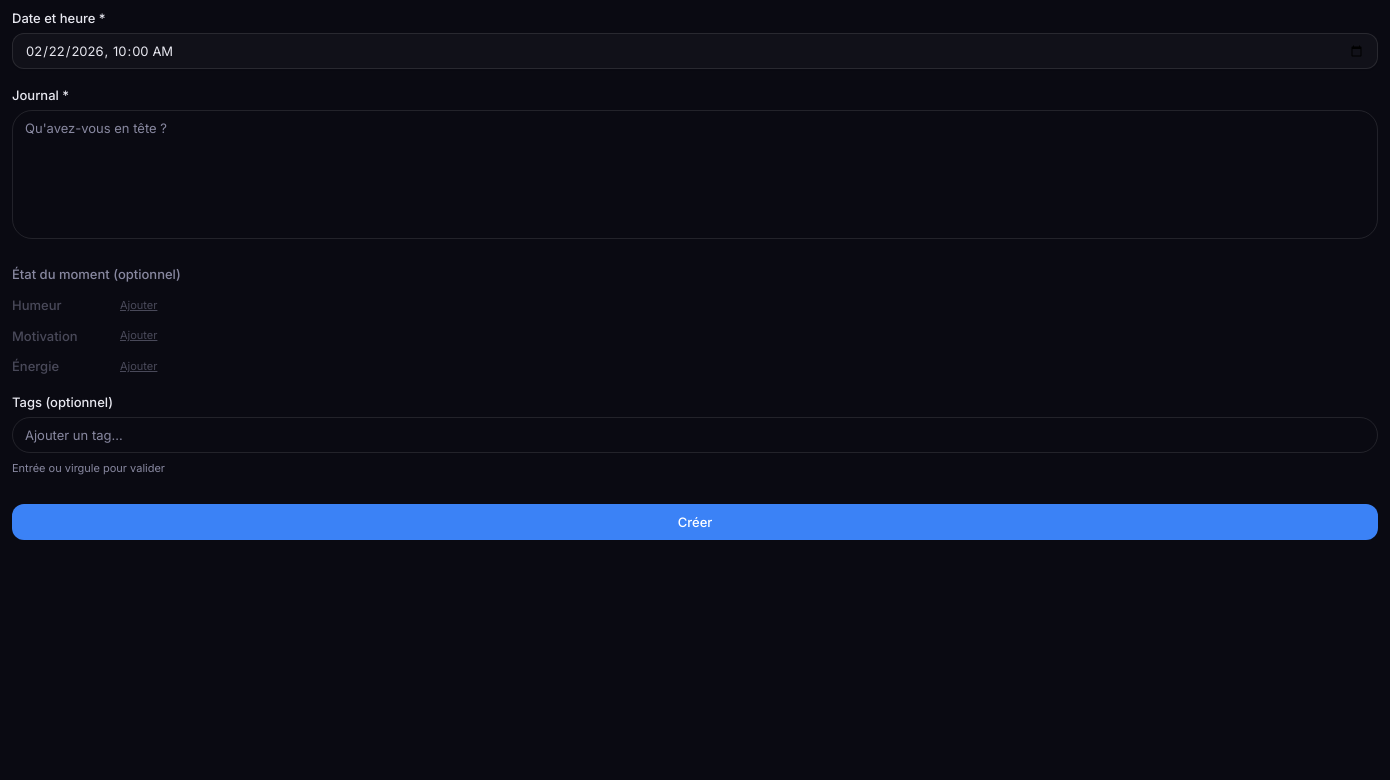
Test: JournalForm — tags › ajoute un tag avec la touche Entrée
The image size is (1390, 780).
Type "sport" into the field named "Saisir un tag". click: [695, 435]
box: x1=12 y1=417 x2=1378 y2=453
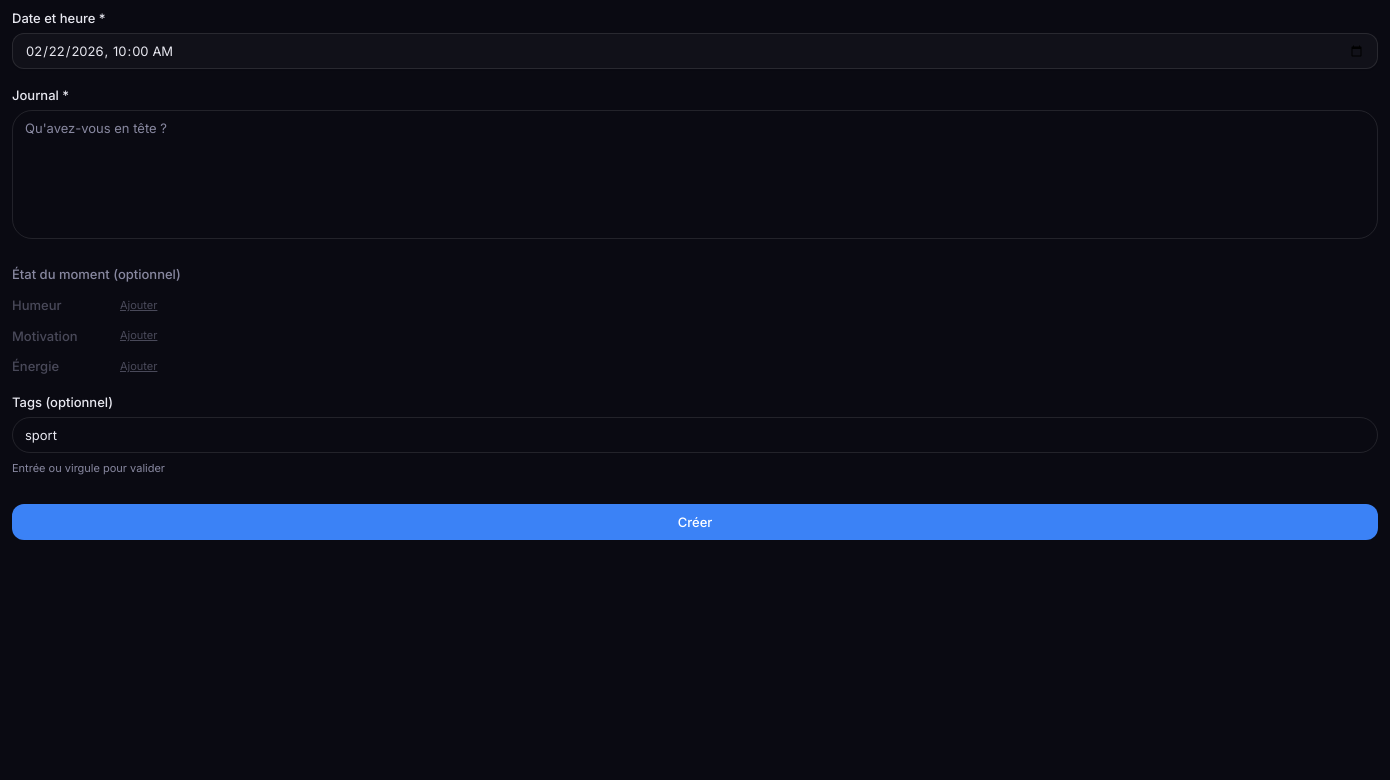
Press Enter in the field named "Saisir un tag", box x1=12 y1=417 x2=1378 y2=453
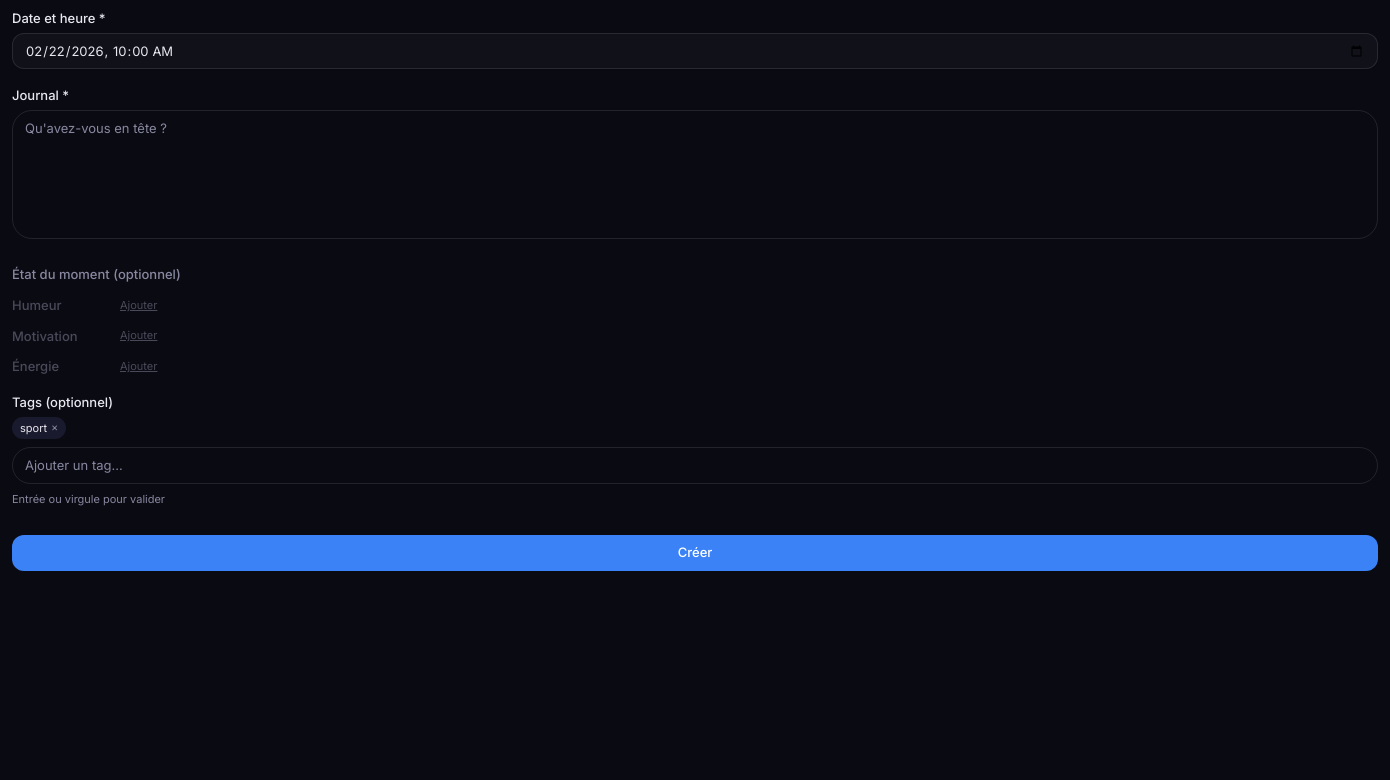
Now the text "sport" is shown, box x1=20 y1=421 x2=47 y2=435
